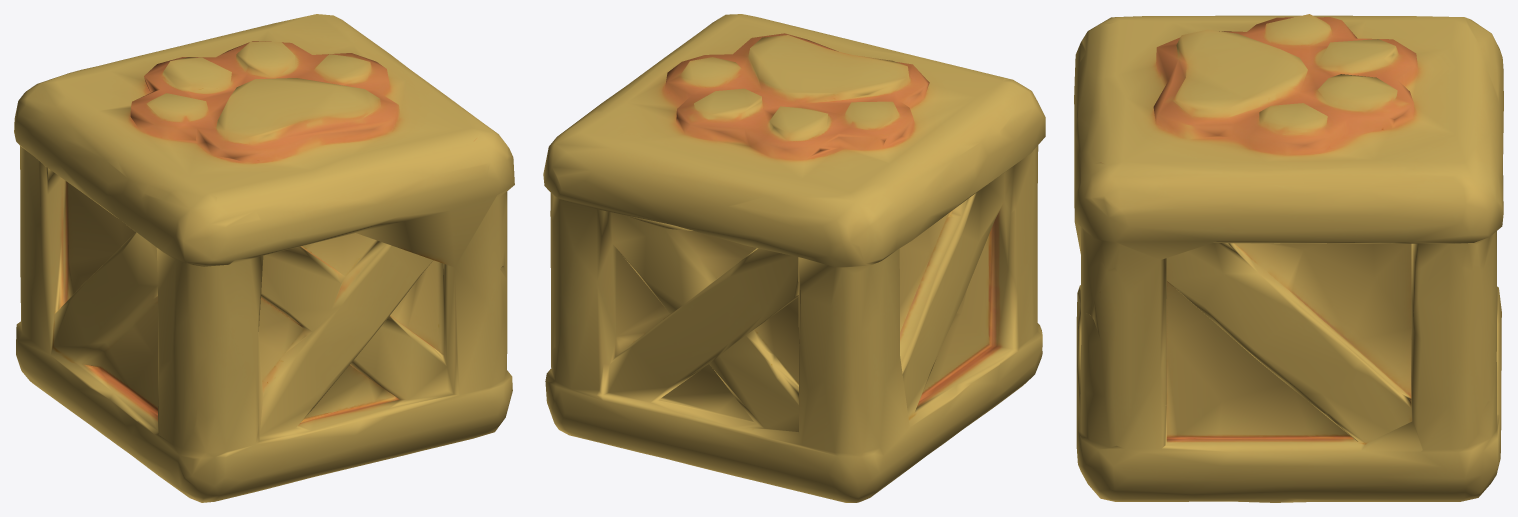
The model's file is level1_delivery.fbx.
3 views of the same model, side by side, from view 1: azimuth 30°, elevation 25°; view 2: azimuth 150°, elevation 25°; view 3: azimuth 270°, elevation 25° (orthographic). The views are drawn at different scales.
Parts seen in each view (by area): view 1: tripo_node_08a8affb; view 2: tripo_node_08a8affb; view 3: tripo_node_08a8affb.
Part boxes in pixels (x1=…): tripo_node_08a8affb: x1=14, y1=14, x2=514, y2=502; tripo_node_08a8affb: x1=543, y1=14, x2=1045, y2=502; tripo_node_08a8affb: x1=1074, y1=14, x2=1503, y2=502.
Bounding box in the file's own units: 100 × 99.92 × 91.57.
1 material, 1 textured.
